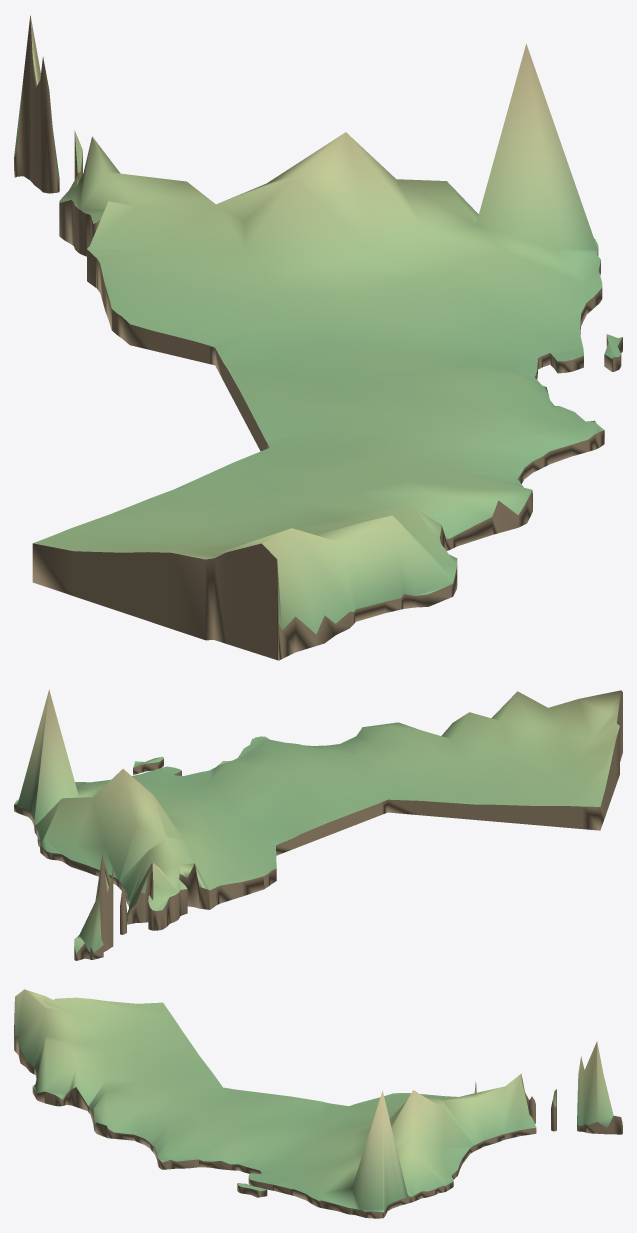
The model's file is OMN.glb.
3 renders of one model, top to bottom at view 1: azimuth 30°, elevation 25°; view 2: azimuth 150°, elevation 25°; view 3: azimuth 270°, elevation 25°, orthographic. The views are drawn at different scales.
Visible parts, largest first — view 1: OMN; view 2: OMN; view 3: OMN.
Boxes of the visible parts, bbox=[...] form: OMN: bbox=[14, 15, 622, 660]; OMN: bbox=[14, 689, 622, 960]; OMN: bbox=[14, 989, 622, 1218].
Bounding box in the file's own units: 1.25 × 0.338 × 1.65.
